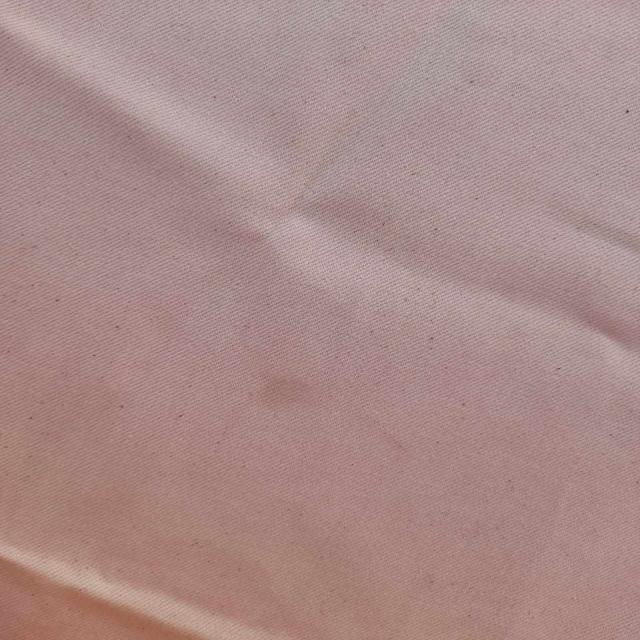taaaches: (240, 365, 320, 427)
